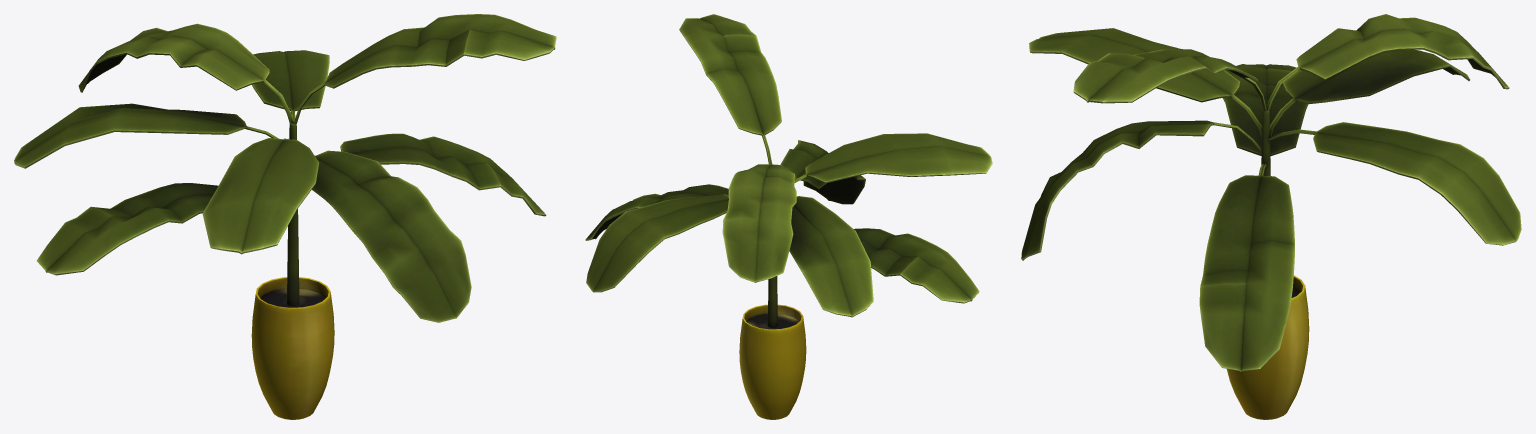
3 renders of one model, left to right at view 1: azimuth 30°, elevation 25°; view 2: azimuth 150°, elevation 25°; view 3: azimuth 270°, elevation 25°, orthographic. The views are drawn at different scales.
Parts seen in each view (by area): view 1: PLAN002; view 2: PLAN002; view 3: PLAN002.
Part boxes in pixels (x1,y1,x2,y2): PLAN002: (14,14,556,419); PLAN002: (585,14,992,419); PLAN002: (1021,14,1521,419).
Bounding box in the file's own units: 2.98 × 2.36 × 2.56.
